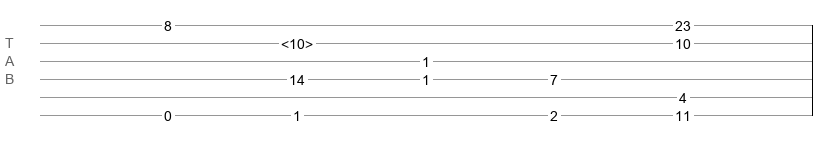0: (164, 108, 172, 118)
1: (293, 108, 301, 118), (422, 72, 430, 82), (422, 54, 430, 64)
10: (675, 36, 691, 46)
11: (675, 108, 691, 118)
14: (289, 72, 305, 82)
2: (550, 108, 558, 118)
23: (675, 18, 691, 28)
4: (679, 90, 687, 100)
7: (550, 72, 558, 82)
8: (164, 18, 172, 28)
harmonic: (281, 36, 313, 46)
